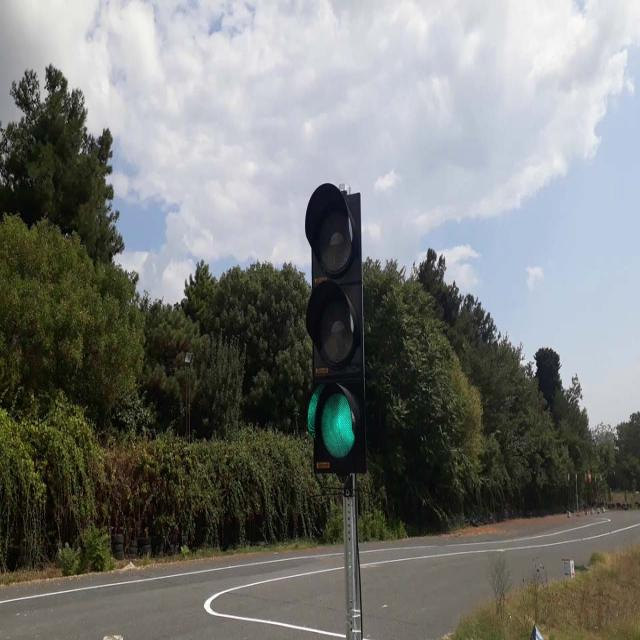yesil: (307, 182, 365, 469)
